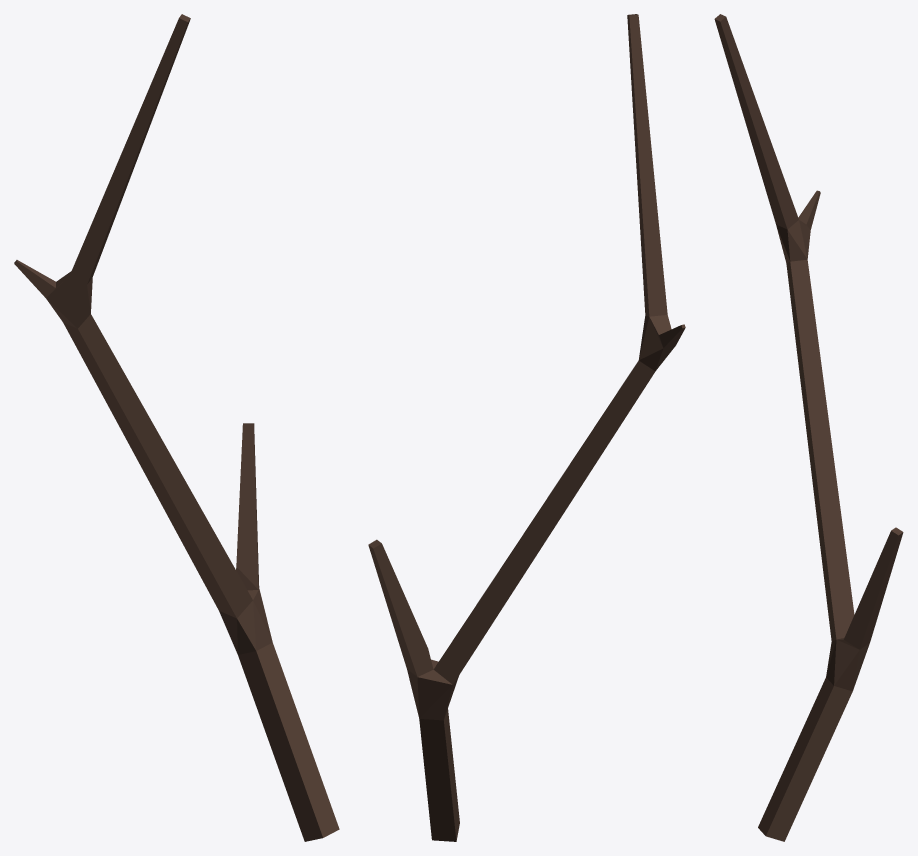
The model's file is stick_01_2.fbx.
3 renders of one model, left to right at view 1: azimuth 30°, elevation 25°; view 2: azimuth 150°, elevation 25°; view 3: azimuth 270°, elevation 25°, orthographic. The views are drawn at different scales.
Parts seen in each view (by area): view 1: Cube; view 2: Cube; view 3: Cube.
Part boxes in pixels (x1,y1,x2,y2): Cube: (14,14,339,841); Cube: (368,14,685,841); Cube: (714,14,903,841).
Size of the model in its own units: 119 by 341 by 77.6.
